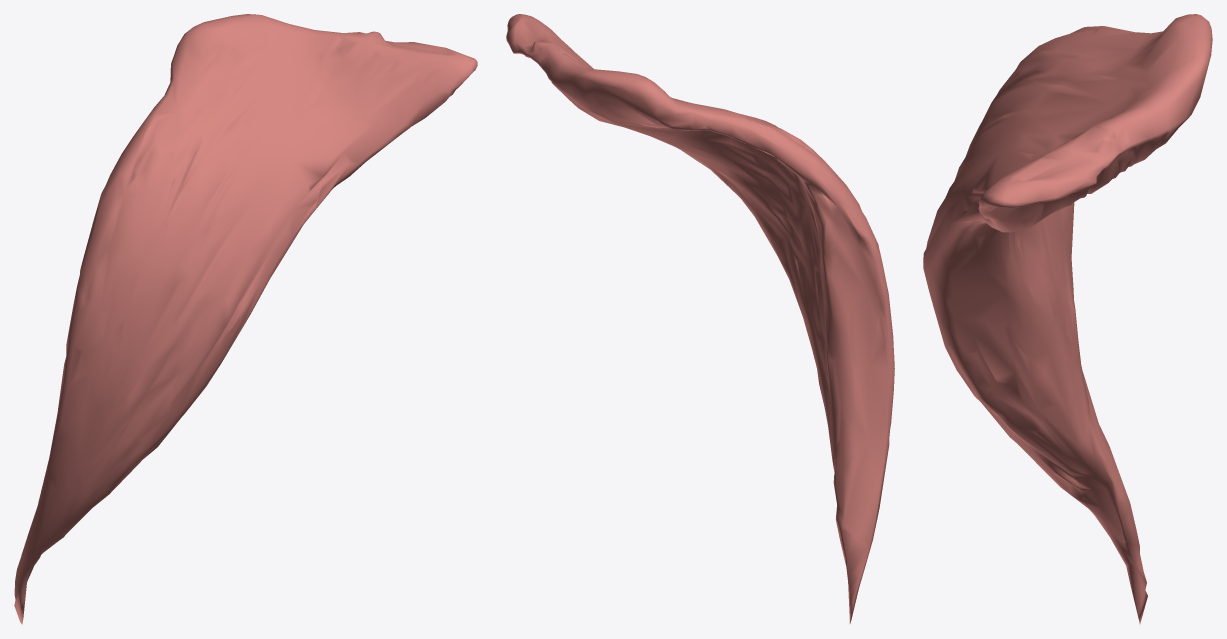
The picture shows the model from 3 angles, left to right: view 1: azimuth 30°, elevation 25°; view 2: azimuth 150°, elevation 25°; view 3: azimuth 270°, elevation 25°; orthographic projection. The views are drawn at different scales.
Parts seen in each view (by area): view 1: ZA_bc88f0f42d616eeb; view 2: ZA_bc88f0f42d616eeb; view 3: ZA_bc88f0f42d616eeb.
Boxes of the visible parts, x1,y1,x2,y2 form: ZA_bc88f0f42d616eeb: (14, 14, 477, 624); ZA_bc88f0f42d616eeb: (506, 14, 894, 624); ZA_bc88f0f42d616eeb: (923, 14, 1212, 624).
Size of the model in its own units: 0.126 by 0.1555 by 0.0548.
